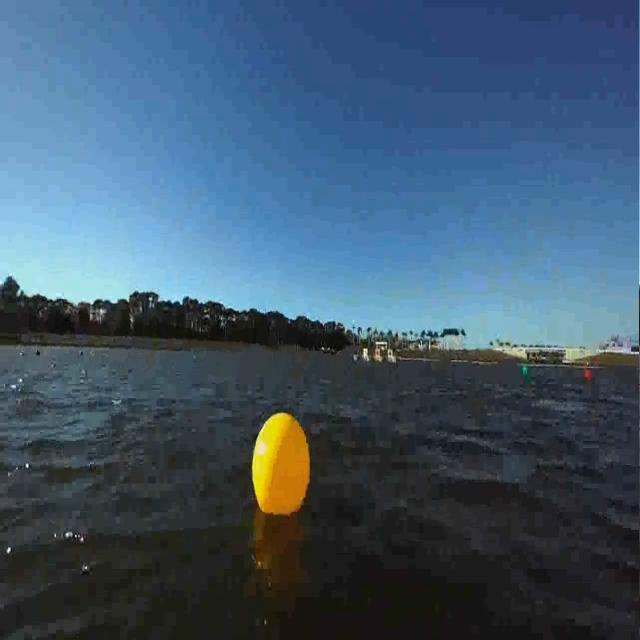yellow-buoy: (253, 410, 312, 518)
